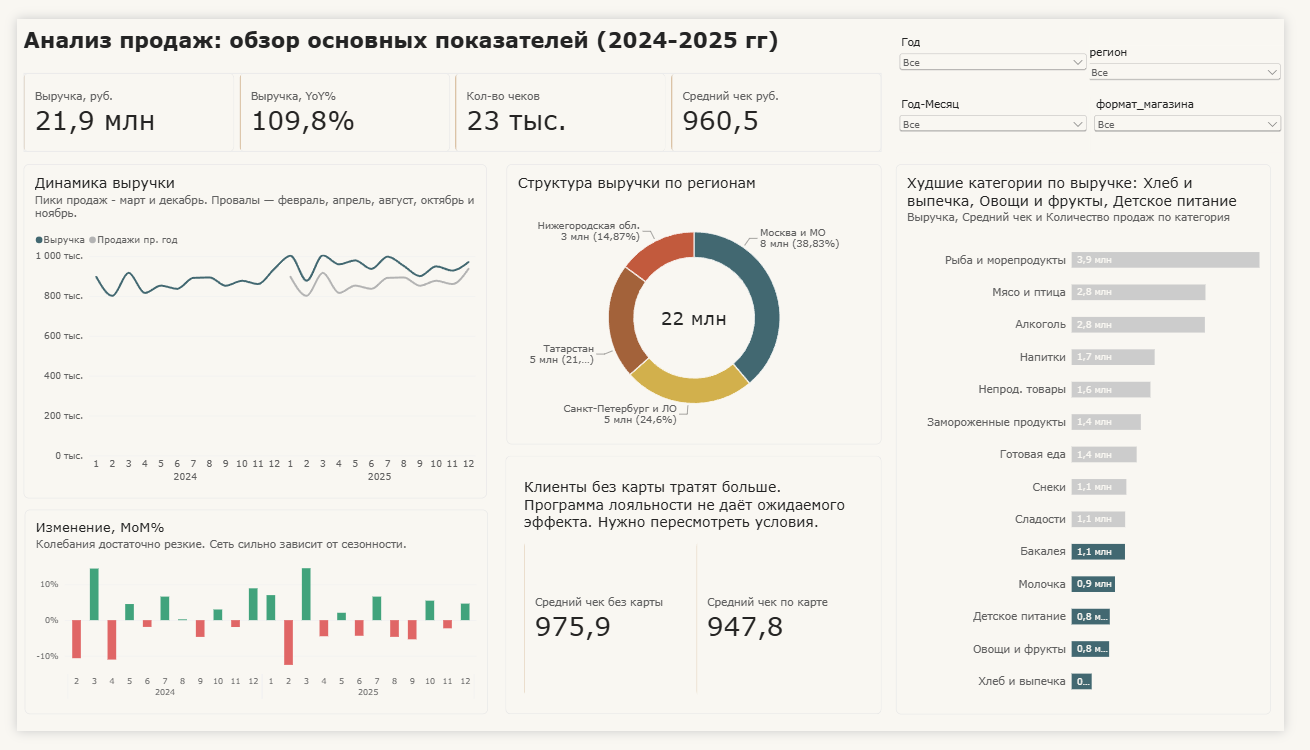

This screenshot's page, from the dashboard's own definition file:
{"tool":"powerbi","page":{"name":"Обзор","canvas":[1920,1080],"ordinal":1},"visuals":[{"type":"cardVisual","fields":{"Data":["fact_sales.Revenue","fact_sales.YoY%","fact_sales.Кол-во чеков","fact_sales.Средний чек"]},"box":[10,81.7,1300,120],"z":0},{"type":"lineChart","title":"Динамика выручки","fields":{"Y":["fact_sales.Revenue","fact_sales.Продажи пр. год"],"Category":["dim_calend.Год","dim_calend.Номер месяца"]},"box":[10,220,701.7,506.7],"z":1000},{"type":"slicer","title":"Выбери регион","fields":{"Values":["dim_stores.регион"]},"box":[1616.7,40,283.3,83.3],"z":2000},{"type":"donutChart","title":"Структура выручки по регионам","fields":{"Category":["dim_stores.регион"],"Y":["fact_sales.Revenue"]},"box":[741.6,219.3,568,424.9],"z":3000},{"type":"clusteredBarChart","fields":{"Y":["fact_sales.Revenue"],"Category":["dim_products.категория","dim_products.подкатегория"]},"box":[1331.7,220,568.3,833.3],"z":4000},{"type":"clusteredColumnChart","title":"Изменение, MoM%","fields":{"Category":["dim_calend.Год","dim_calend.Номер месяца"],"Y":["fact_sales.MoM%"]},"box":[11.7,743.3,701.7,310],"z":5000},{"type":"slicer","title":"Выбери регион","fields":{"Values":["dim_stores.формат_магазина"]},"box":[1626.7,118.3,273.3,85],"z":6000},{"type":"shape","box":[740,661.7,570,391.7],"z":7000},{"type":"slicer","title":"Выбери регион","fields":{"Values":["dim_calend.Год-Месяц"]},"box":[1332.5,118.8,293.9,83.8],"z":8000},{"type":"cardVisual","fields":{"Data":["fact_sales.Средний чек без карты","fact_sales.Средний чек по карте"]},"box":[768.3,695,515,331.7],"z":9000},{"type":"textbox","box":[10,11.7,1300,55],"z":10000},{"type":"slicer","title":"Выбери регион","fields":{"Values":["dim_calend.Год"]},"box":[1331.7,25,293.9,83.8],"z":11000},{"type":"actionButton","box":[1800,5,100,40],"z":12000}]}

Visuals, with their boxes in screenshot pixels (x1, y1, x2, y2), scaled from the page's 1920x1080 canvas onto the 1310x750 screenshot:
cardVisual - fact_sales.Revenue x fact_sales.YoY%: 7,57,894,140
"Динамика выручки" lineChart: 7,153,486,505
"Выбери регион" slicer: 1103,28,1296,86
"Структура выручки по регионам" donutChart: 506,152,894,447
clusteredBarChart - fact_sales.Revenue x dim_products.категория: 909,153,1296,731
"Изменение, MoM%" clusteredColumnChart: 8,516,487,731
"Выбери регион" slicer: 1110,82,1296,141
shape: 505,460,894,732
"Выбери регион" slicer: 909,82,1110,141
cardVisual - fact_sales.Средний чек без карты x fact_sales.Средний чек по карте: 524,483,876,713
textbox: 7,8,894,46
"Выбери регион" slicer: 909,17,1109,76
actionButton: 1228,3,1296,31
